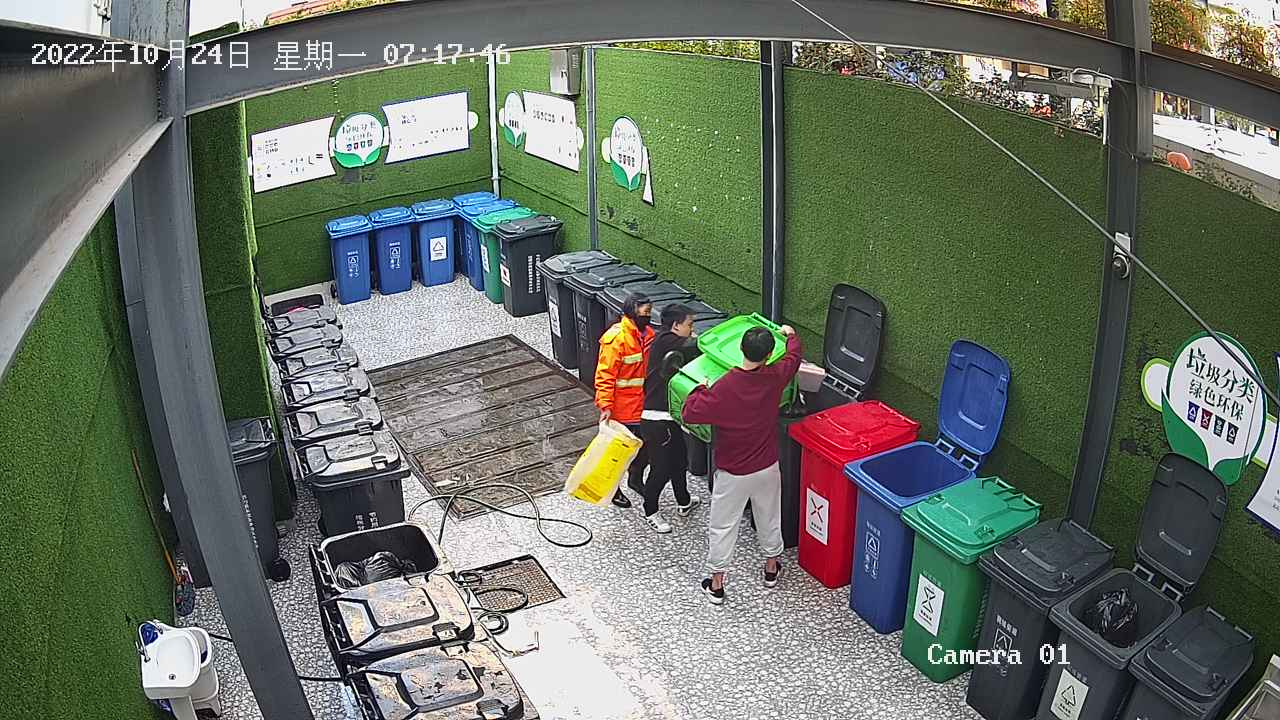garbage-bag: (560, 413, 647, 515)
person: (591, 287, 808, 614)
